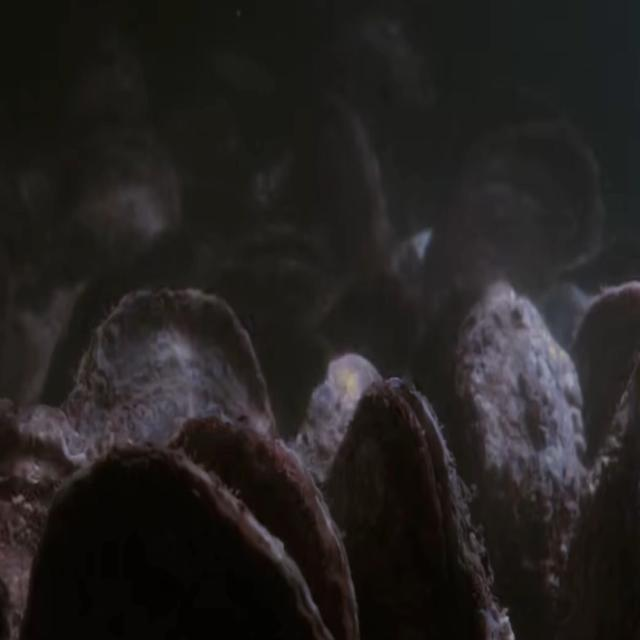Oyster-Closed: (24, 447, 333, 640), (168, 413, 362, 640), (0, 396, 99, 640)
Oyster-Indeterminate: (60, 287, 276, 640), (444, 280, 590, 640), (421, 115, 603, 338), (290, 354, 384, 640), (288, 92, 394, 291), (62, 145, 183, 280), (571, 280, 640, 498)
Oyster-Open: (322, 379, 512, 640), (212, 221, 340, 313)
